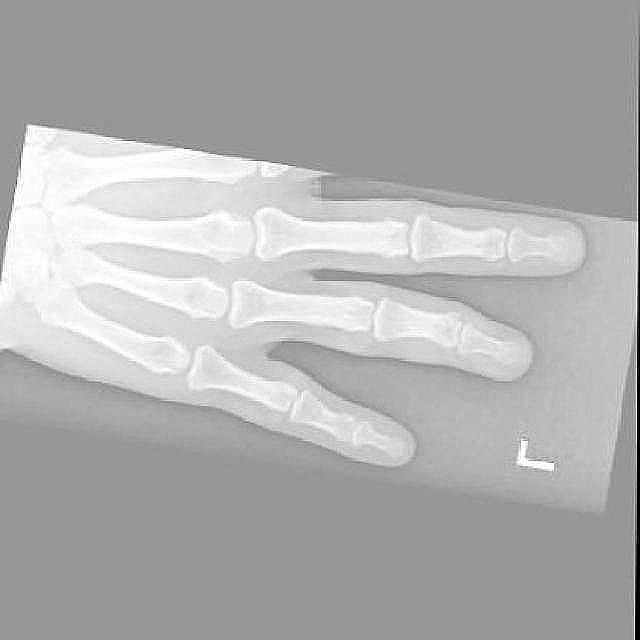bone: (424, 309, 462, 352)
